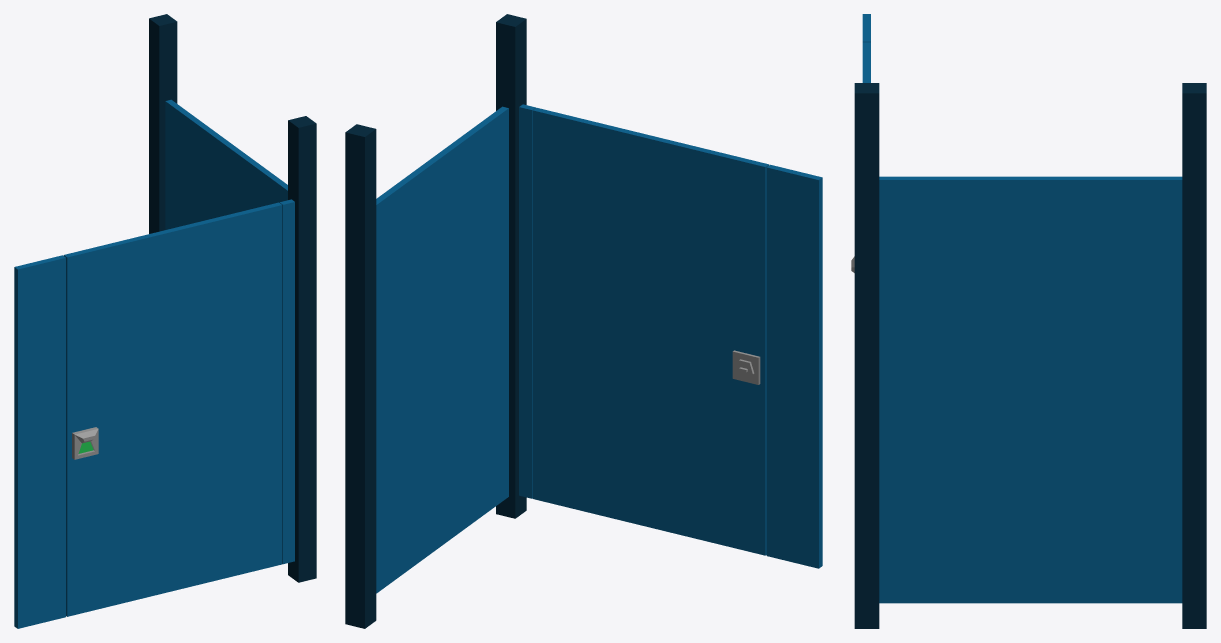
The model's file is BathroomDoor.fbx.
The picture shows the model from 3 angles, left to right: view 1: azimuth 30°, elevation 25°; view 2: azimuth 150°, elevation 25°; view 3: azimuth 270°, elevation 25°; orthographic projection. The views are drawn at different scales.
Visible parts, largest first — view 1: Cubical_bathriin; view 2: Cubical_bathriin; view 3: Cubical_bathriin.
Part boxes in pixels (bbox=[...]): Cubical_bathriin: bbox=[14, 14, 316, 628]; Cubical_bathriin: bbox=[345, 14, 822, 628]; Cubical_bathriin: bbox=[851, 14, 1206, 628].
Size of the model in its own units: 2450 by 3607 by 2171.
